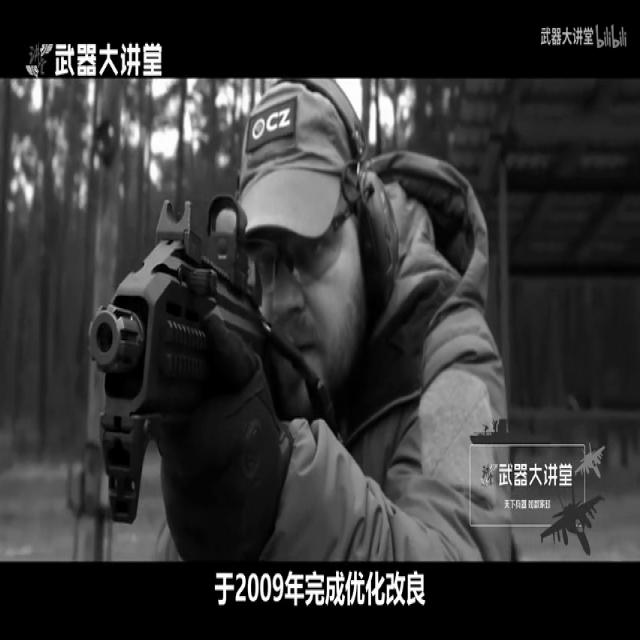Sub-machine-gun: (72, 164, 325, 519)
